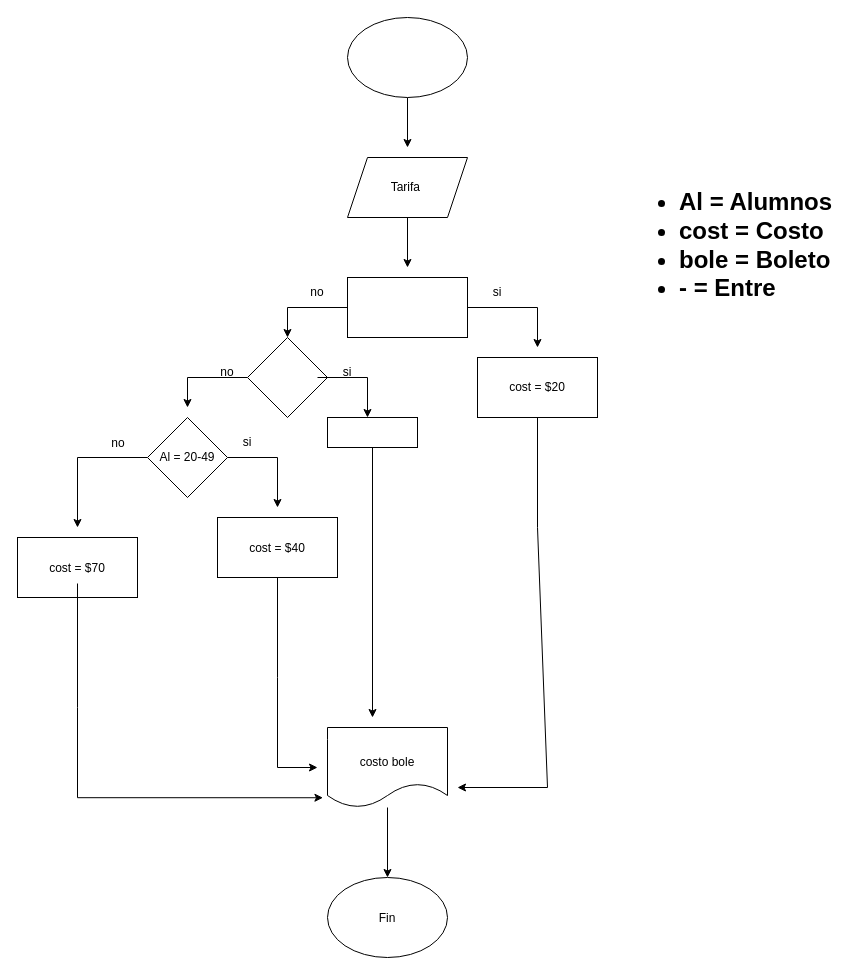
Image size: 865x975. Some labels were removed from this diagram. Each missing label, with the box of its shape:
Al = 50-100: (246, 336, 328, 418)
Al > 100: (346, 276, 468, 338)
cost = $35: (326, 416, 418, 448)
Inicio: (346, 16, 468, 98)
